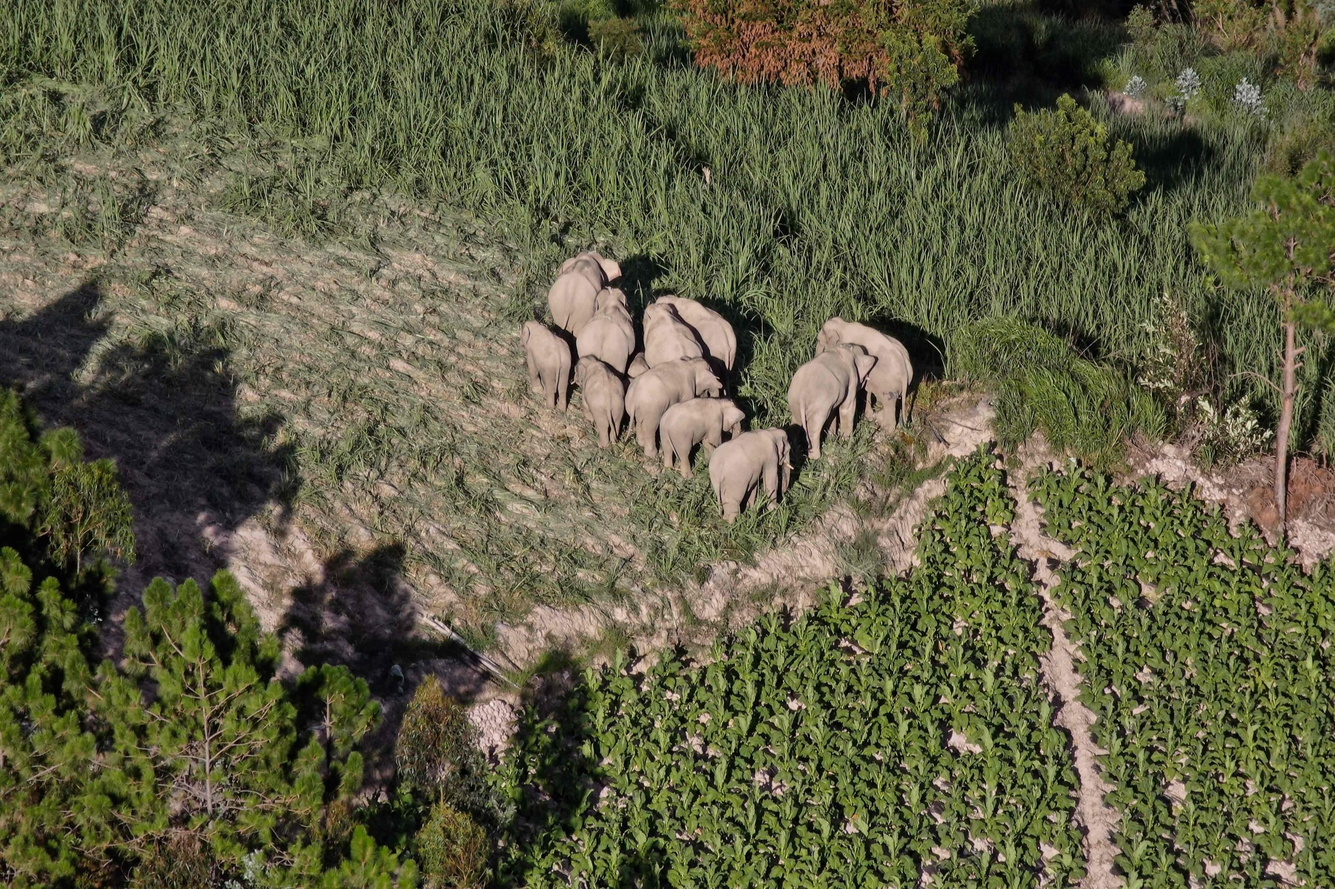Adult Elephant: (803, 308, 946, 433), (626, 358, 724, 462), (780, 343, 867, 456), (641, 289, 728, 399), (665, 287, 753, 379), (711, 431, 803, 518), (551, 241, 628, 333), (568, 291, 638, 372)
Baby Elephant: (657, 393, 751, 485), (505, 316, 574, 406), (574, 362, 624, 449)
